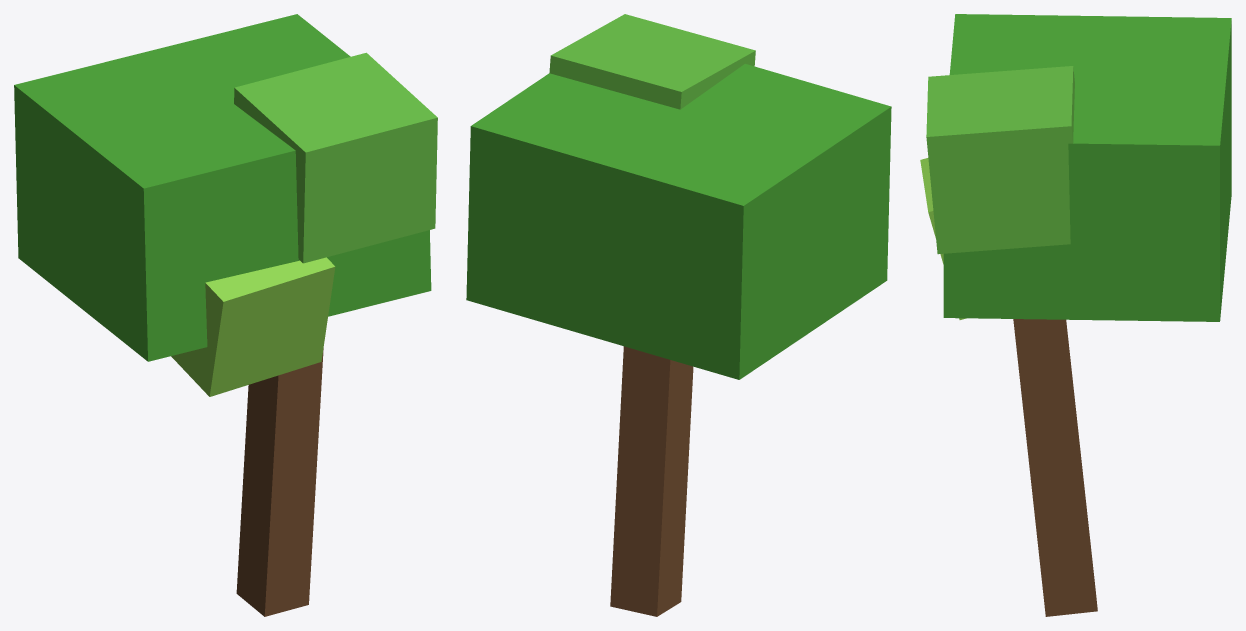
Rendered from tree.glb.
3 renders of one model, left to right at view 1: azimuth 30°, elevation 25°; view 2: azimuth 150°, elevation 25°; view 3: azimuth 270°, elevation 25°, orthographic.
Visible parts, largest first — view 1: Tree_2_leaf0.001; view 2: Tree_2_leaf0.001; view 3: Tree_2_leaf0.001.
Part boxes in pixels (x1,y1,x2,y2): Tree_2_leaf0.001: (14, 14, 437, 616); Tree_2_leaf0.001: (466, 14, 891, 616); Tree_2_leaf0.001: (920, 14, 1231, 616).
Size of the model in its own units: 1.32 by 2.29 by 1.23.
